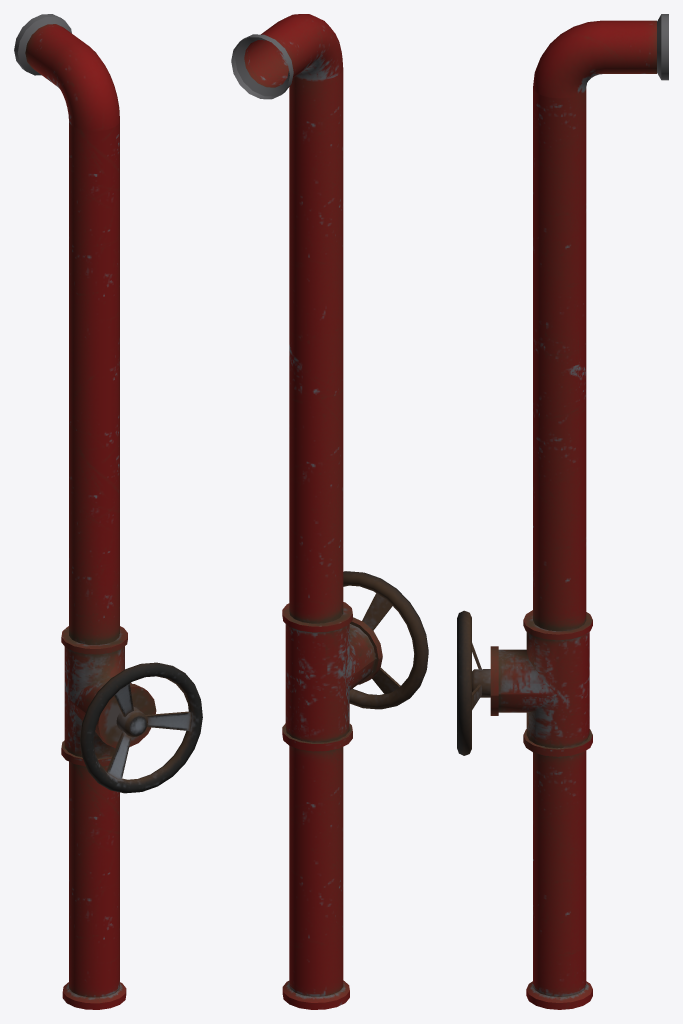
The model's file is MetalPipeA.fbx.
The picture shows the model from 3 angles, left to right: view 1: azimuth 30°, elevation 25°; view 2: azimuth 150°, elevation 25°; view 3: azimuth 270°, elevation 25°; orthographic projection. The views are drawn at different scales.
Visible parts, largest first — view 1: MetalPipeA; view 2: MetalPipeA; view 3: MetalPipeA.
Boxes of the visible parts, <box> form: MetalPipeA: <box>14,14,202,1009</box>; MetalPipeA: <box>231,14,428,1009</box>; MetalPipeA: <box>457,14,668,1009</box>.
Bounding box in the file's own units: 36.6 × 271 × 53.25.
